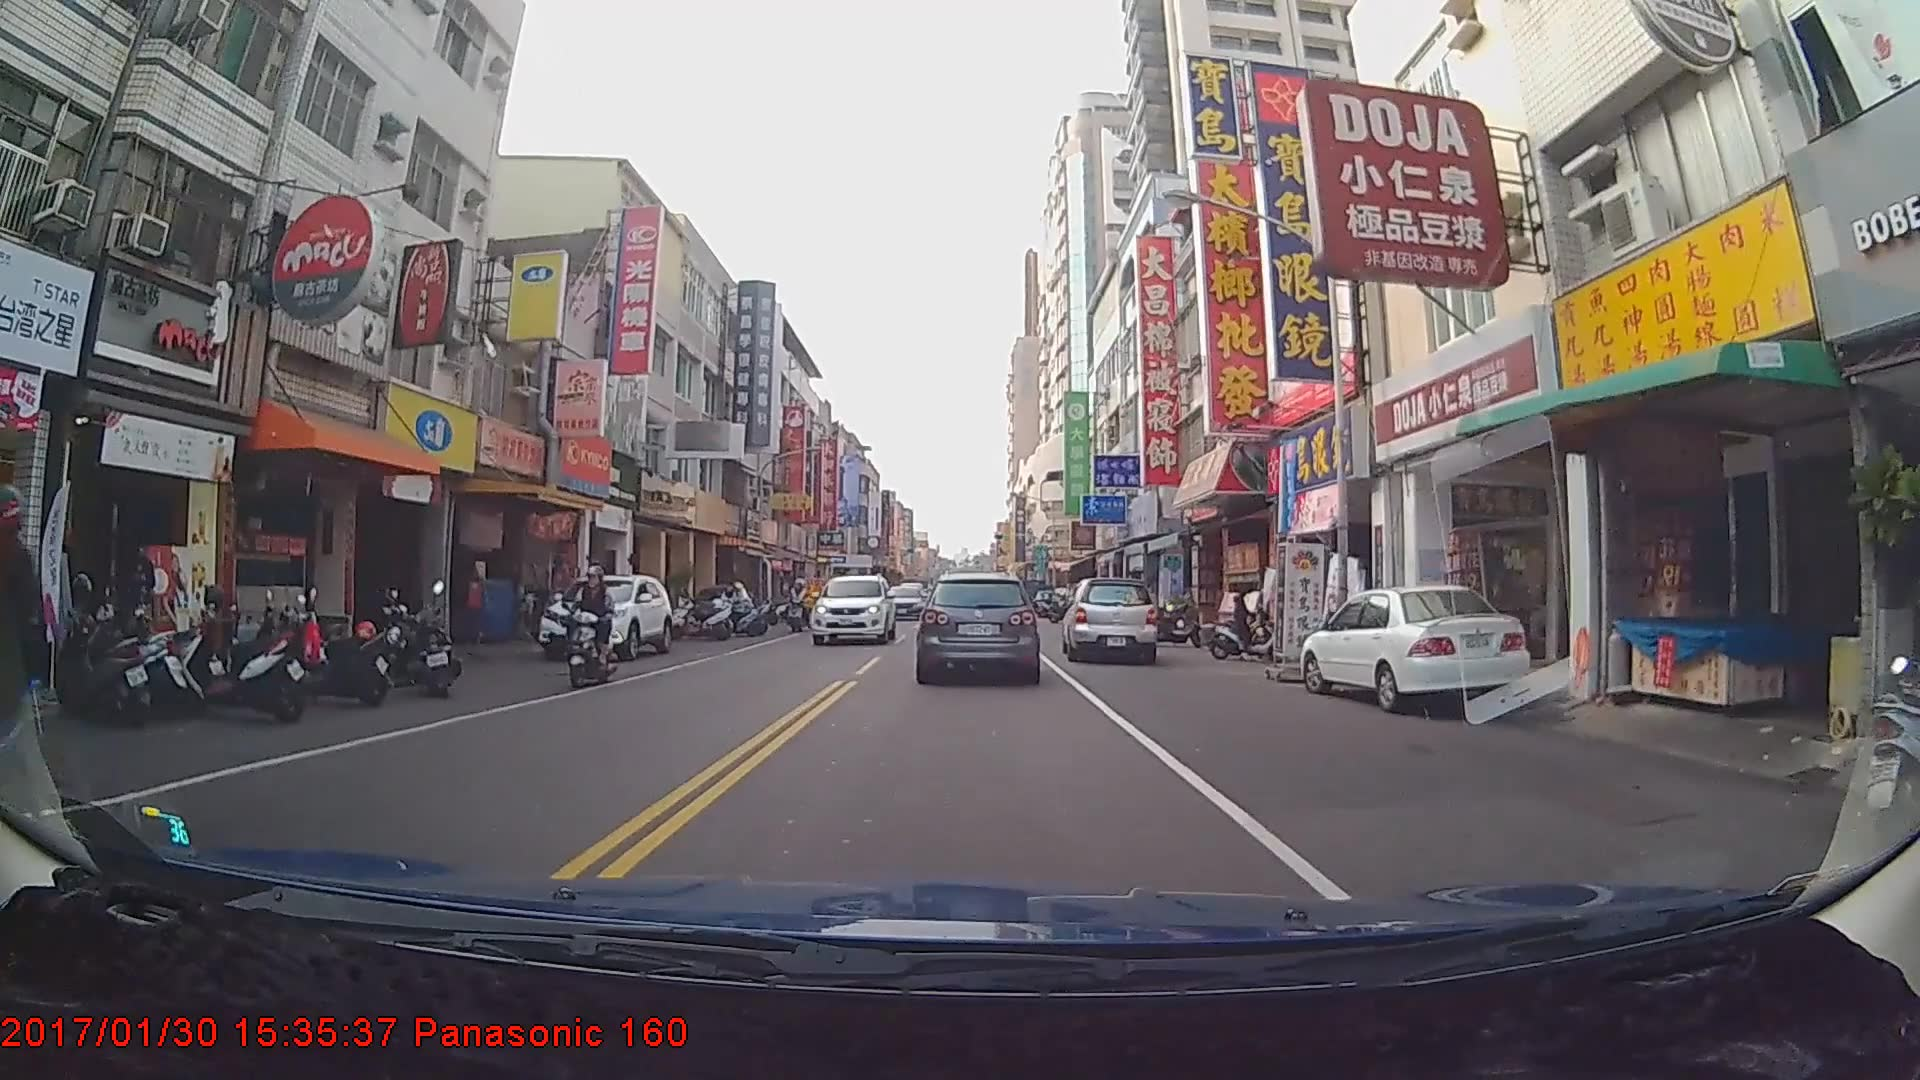rider: (0, 480, 72, 855), (564, 566, 624, 691), (1208, 581, 1291, 663), (784, 574, 814, 634)
vehicle: (1301, 584, 1530, 711), (918, 573, 1039, 680), (536, 573, 673, 661), (1064, 575, 1159, 663), (810, 571, 895, 644), (881, 587, 927, 622)
